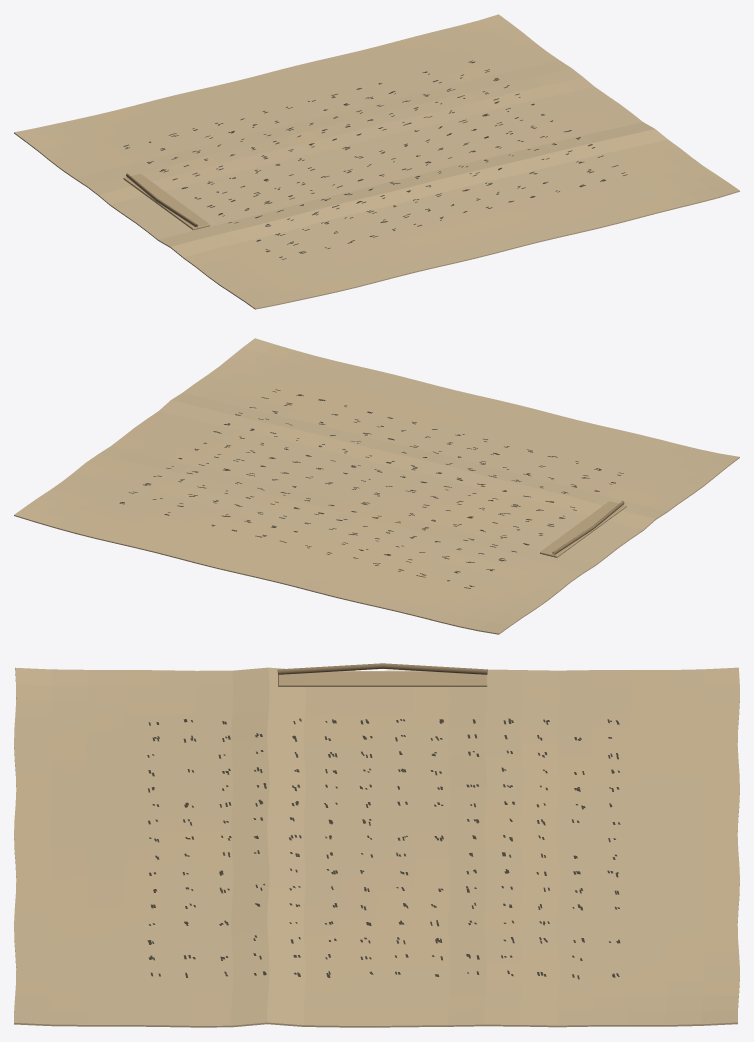
File: SecretLetterRefined.glb
The picture shows the model from 3 angles, top to bottom: view 1: azimuth 30°, elevation 25°; view 2: azimuth 150°, elevation 25°; view 3: azimuth 270°, elevation 25°; orthographic projection. The views are drawn at different scales.
Visible parts, largest first — view 1: SecretLetterRefined; view 2: SecretLetterRefined; view 3: SecretLetterRefined.
Boxes of the visible parts, bbox=[...] form: SecretLetterRefined: bbox=[14, 14, 739, 309]; SecretLetterRefined: bbox=[14, 338, 739, 634]; SecretLetterRefined: bbox=[14, 663, 739, 1027].
Bounding box in the file's own units: 0.3007 × 0.0109 × 0.2592.
